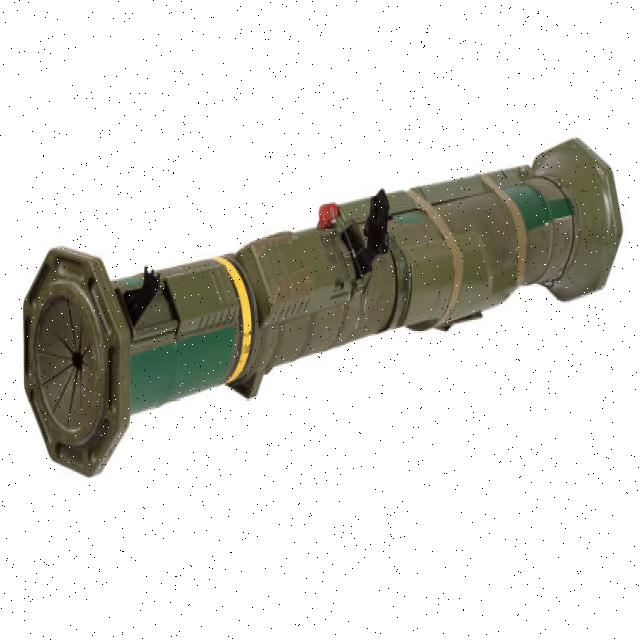bazooka: (8, 121, 628, 483)
